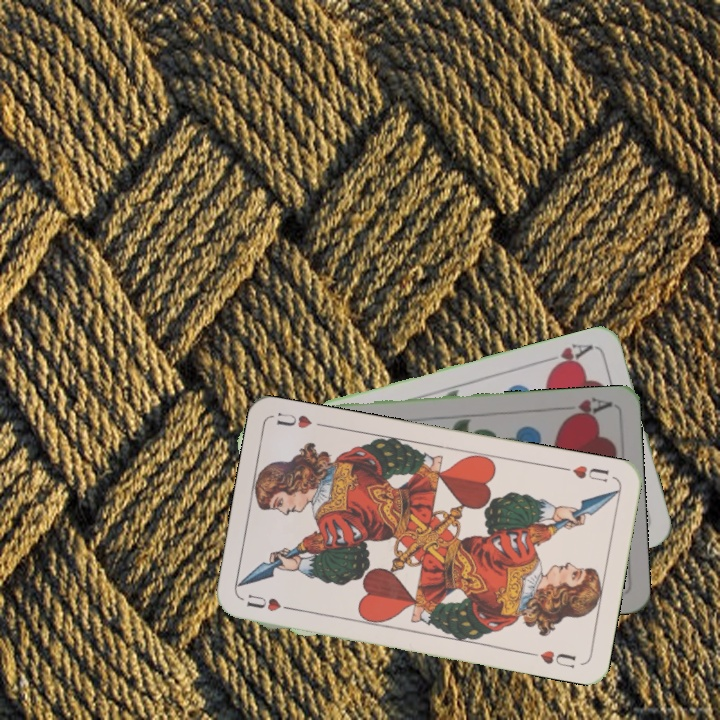HA: (546, 339, 596, 374), (555, 394, 614, 422)
HU: (242, 590, 298, 614), (558, 461, 611, 485)
